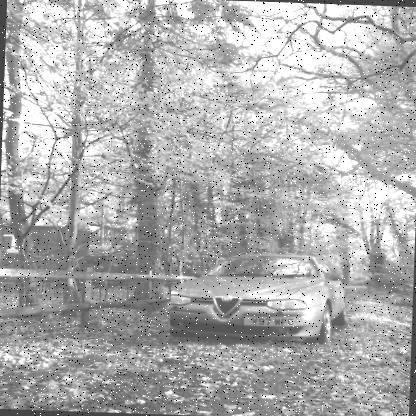Car: (170, 249, 351, 344)
